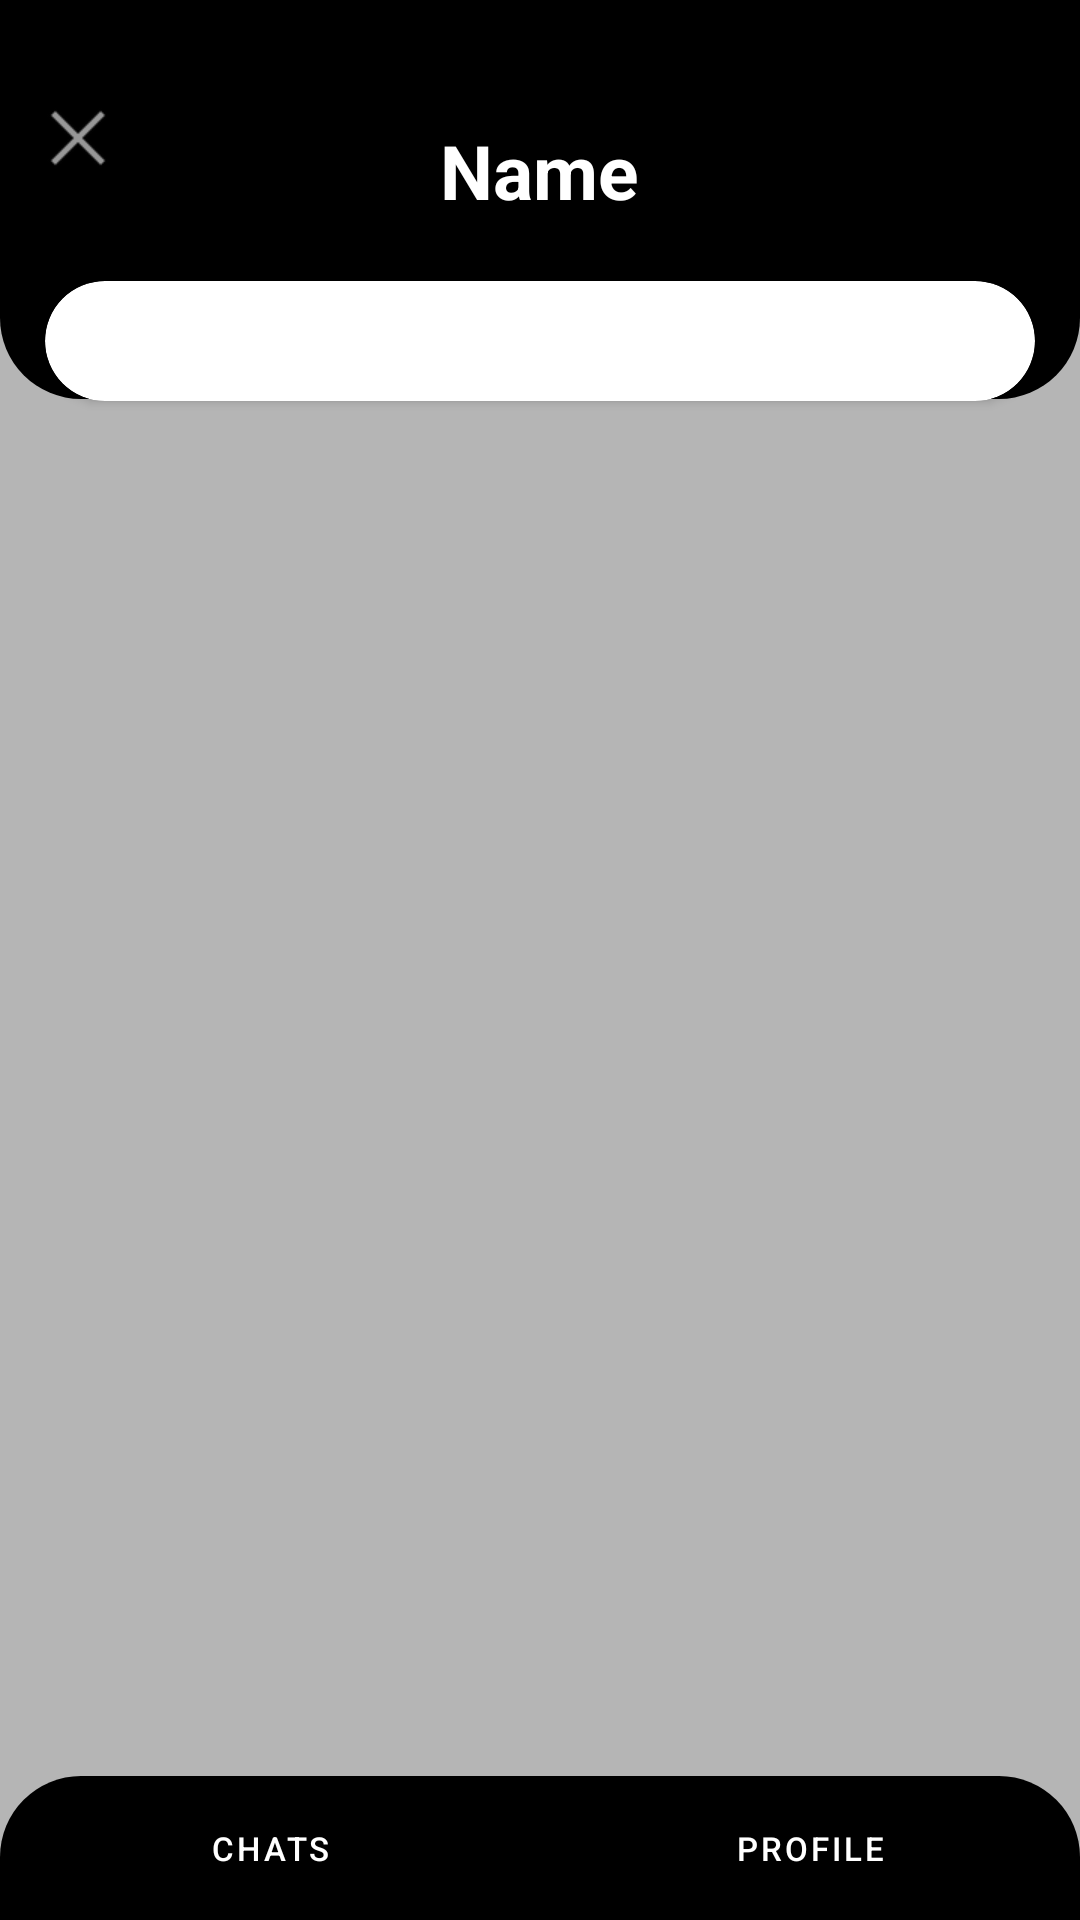

Icons on this 1080px x 1920px Android screen, each with its box as {"left": x1, "top": y1, "right": x2, "bottom": y2}:
close clear cancel: {"left": 51, "top": 111, "right": 105, "bottom": 165}
